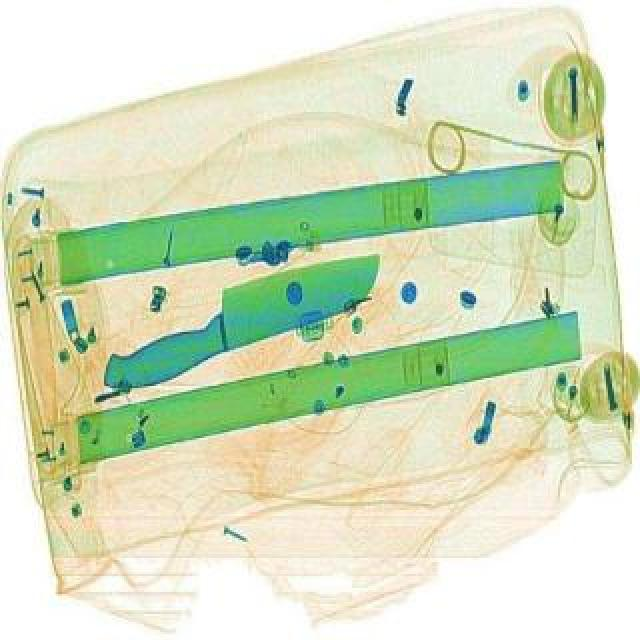knife: (82, 240, 398, 396)
